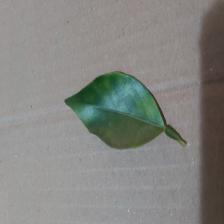greening: (58, 66, 190, 163)
